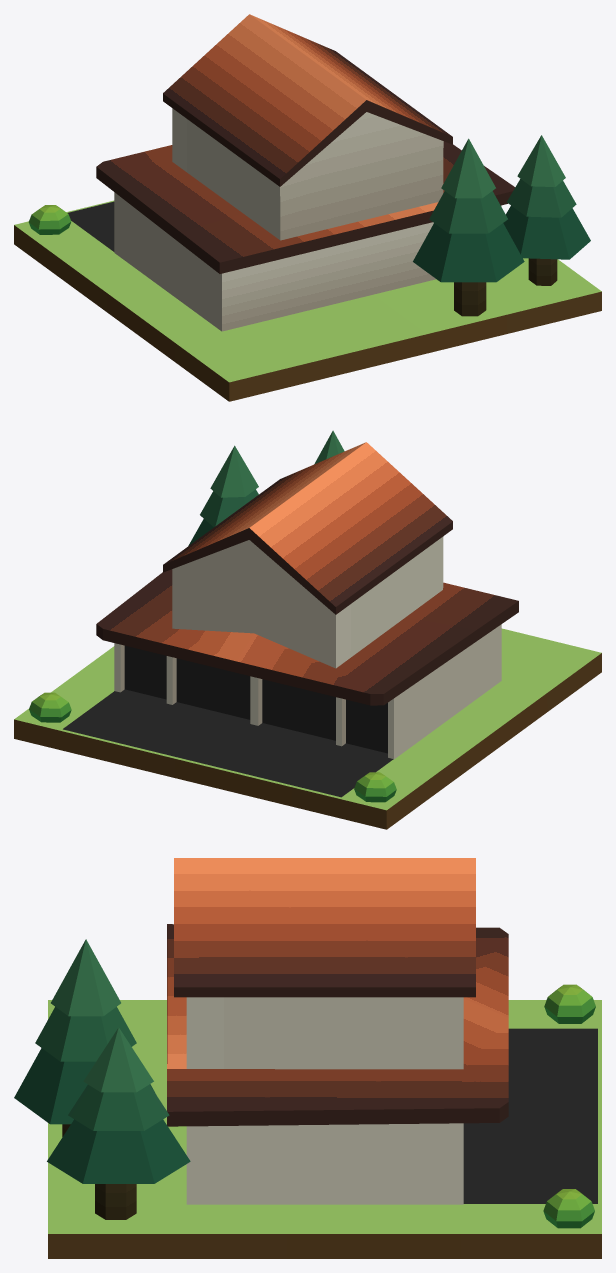
Rendered from garage1.fbx.
3 renders of one model, top to bottom at view 1: azimuth 30°, elevation 25°; view 2: azimuth 150°, elevation 25°; view 3: azimuth 270°, elevation 25°, orthographic. The views are drawn at different scales.
Parts seen in each view (by area): view 1: buisson.006; view 2: buisson.006; view 3: buisson.006.
Boxes of the visible parts, left/top/right/bottom form: buisson.006: left=14, top=14, right=601, bottom=401; buisson.006: left=14, top=430, right=601, bottom=829; buisson.006: left=14, top=858, right=601, bottom=1258.
Size of the model in its own units: 403 by 425 by 226.
